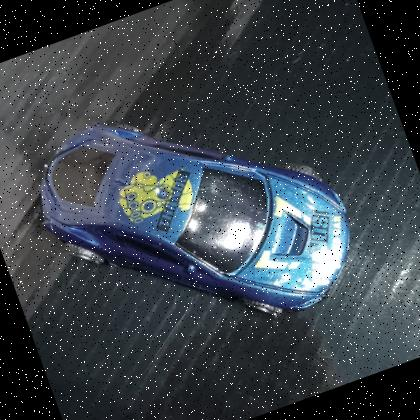Car: (40, 126, 351, 318)
